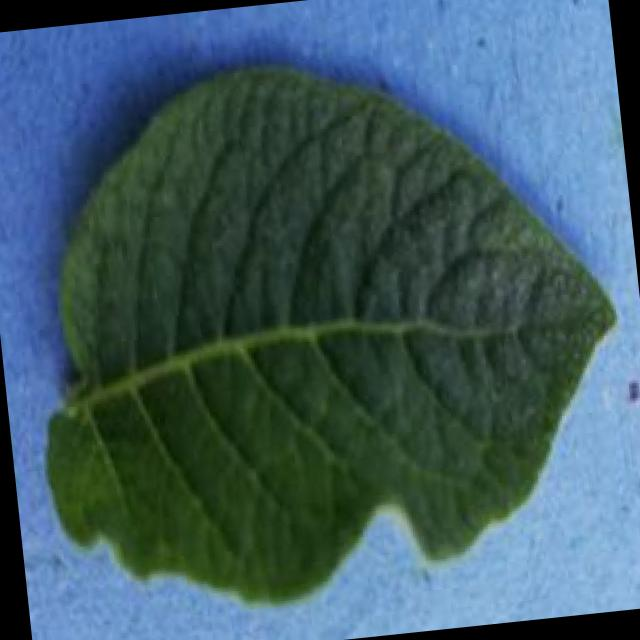Potato_Healthy: (8, 31, 639, 624)
